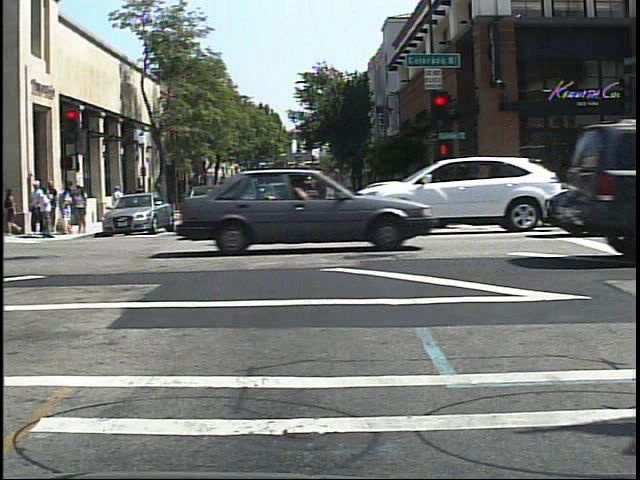person: (107, 180, 127, 226)
